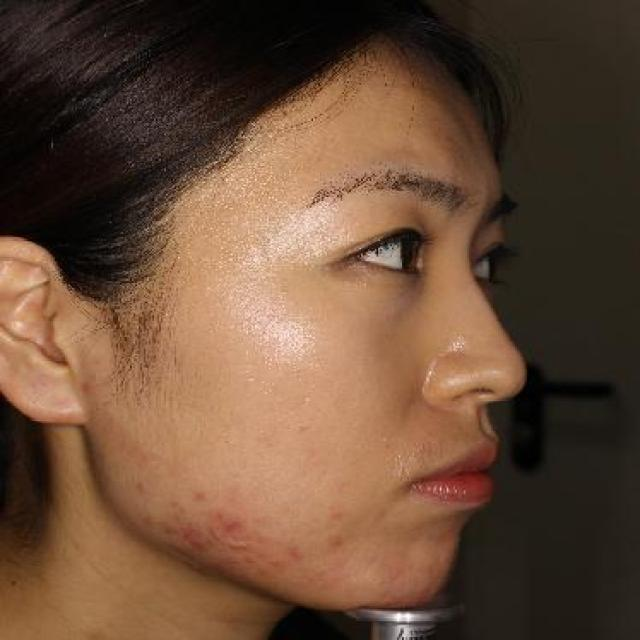dark spot: (221, 514, 250, 535), (320, 534, 347, 551), (128, 478, 149, 494), (284, 544, 308, 558), (188, 485, 210, 500), (324, 508, 346, 523), (210, 509, 230, 522), (139, 514, 154, 528)
nodules: (222, 537, 252, 551)
pustules: (294, 418, 312, 432)
